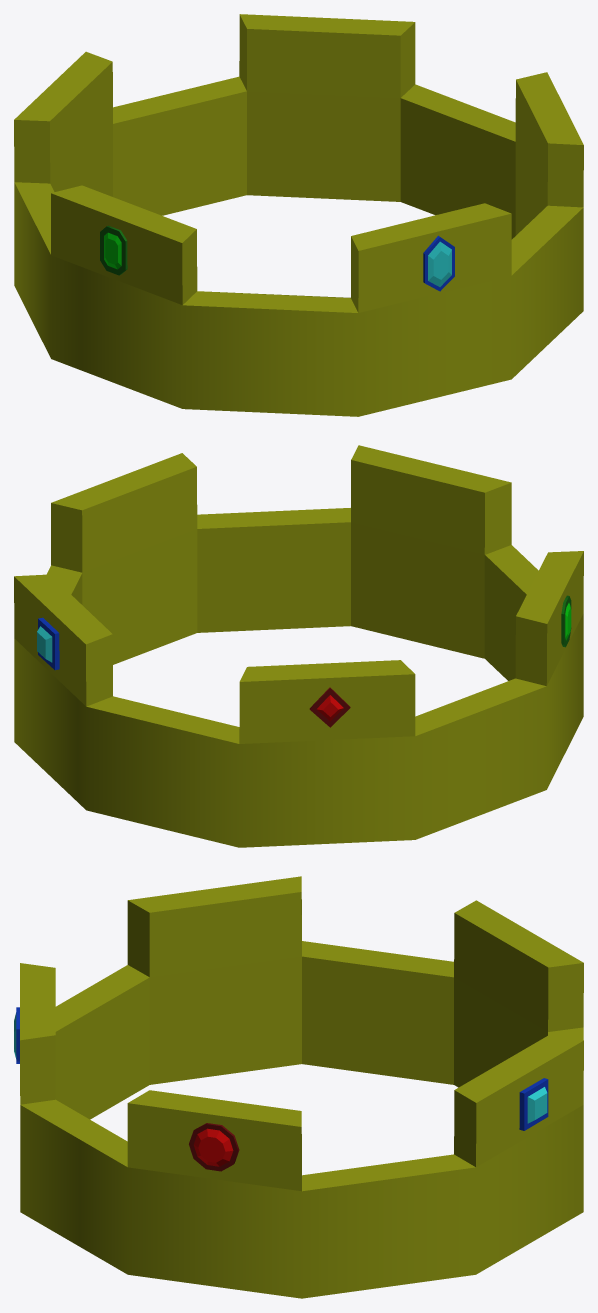
The model's file is Корона.FBX.
3 renders of one model, top to bottom at view 1: azimuth 30°, elevation 25°; view 2: azimuth 150°, elevation 25°; view 3: azimuth 270°, elevation 25°, orthographic. The views are drawn at different scales.
Visible parts, largest first — view 1: Cylinder001, Box001, Box002; view 2: Cylinder001, Box004, Box003; view 3: Cylinder001, Cylinder002, Box004.
Part boxes in pixels (x1,y1,x2,y2): Cylinder001: (14, 14, 583, 416); Box001: (423, 235, 454, 291); Box002: (100, 225, 127, 275); Cylinder001: (14, 445, 583, 847); Box004: (37, 617, 59, 670); Box003: (309, 687, 350, 727); Cylinder001: (20, 876, 583, 1298); Cylinder002: (189, 1123, 239, 1171); Box004: (519, 1078, 548, 1130).
Size of the model in its own units: 100 by 32.04 by 96.21.
